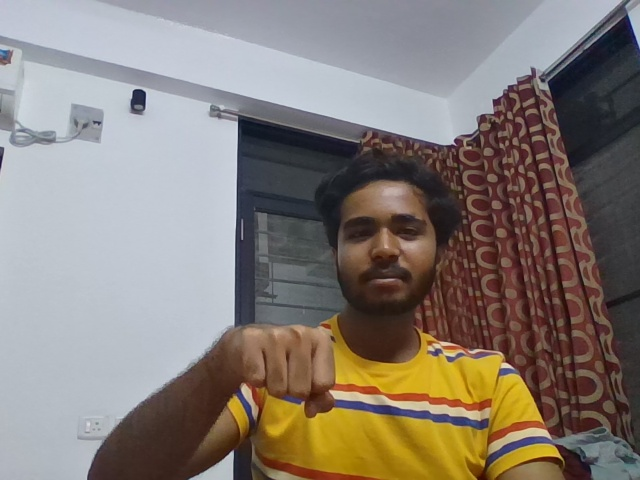Yes: (211, 304, 348, 440)
